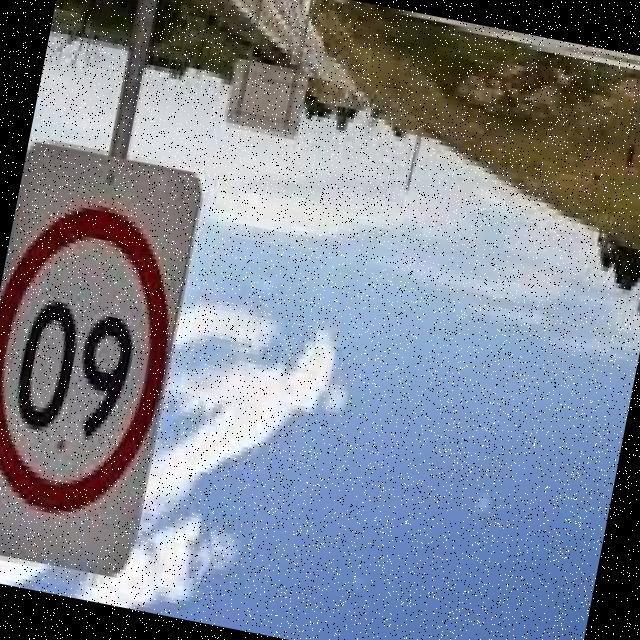speed_limit_60: (0, 186, 201, 545)
